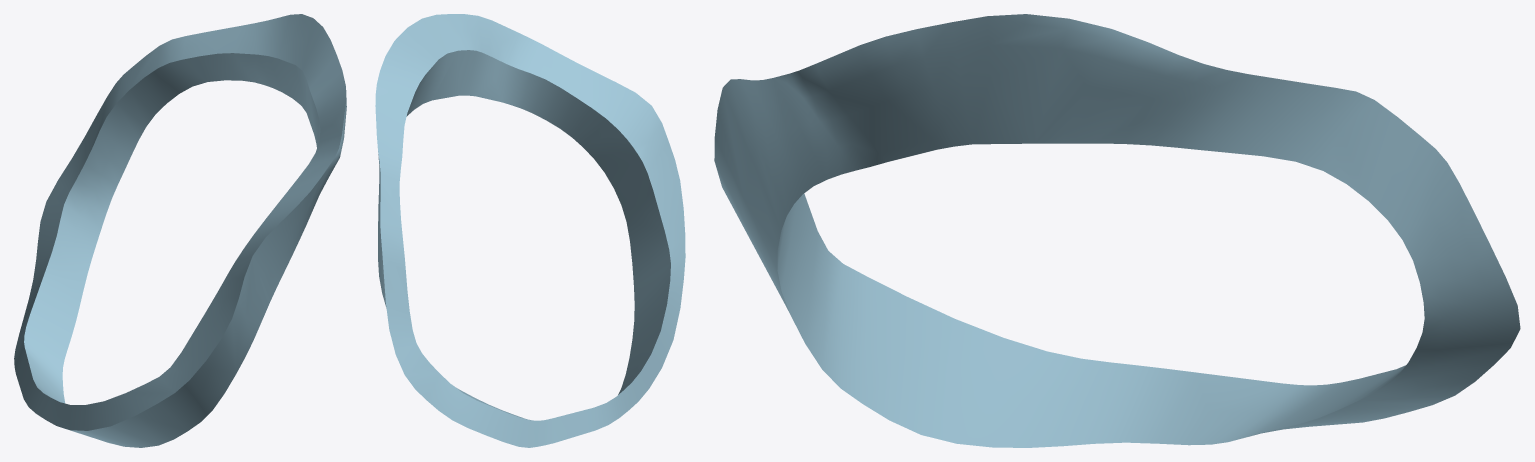
The model's file is articulacoes-acetabular-labrum-l.glb.
3 views of the same model, side by side, from view 1: azimuth 30°, elevation 25°; view 2: azimuth 150°, elevation 25°; view 3: azimuth 270°, elevation 25° (orthographic). The views are drawn at different scales.
Parts seen in each view (by area): view 1: Acetabular labrum.l; view 2: Acetabular labrum.l; view 3: Acetabular labrum.l.
Boxes of the visible parts, box(x1,y1,x2,y2) form: Acetabular labrum.l: box(14, 14, 346, 447); Acetabular labrum.l: box(375, 14, 685, 447); Acetabular labrum.l: box(714, 14, 1520, 447).
Bounding box in the file's own units: 0.0353 × 0.0478 × 0.0573.
